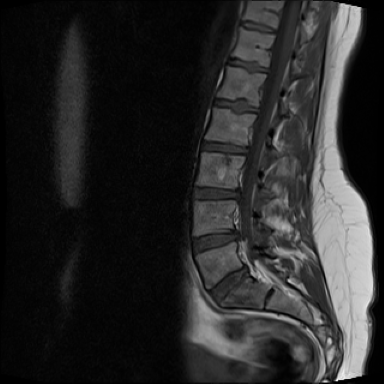Lumbar Disc Bulge (LDB): (205, 262, 256, 310), (191, 226, 247, 259)
Normal IVD: (190, 179, 249, 204), (199, 134, 257, 159), (225, 52, 276, 77), (213, 95, 267, 116), (239, 20, 282, 36)
Spinal Stenosis (SS): (231, 224, 246, 248), (242, 261, 254, 277)
